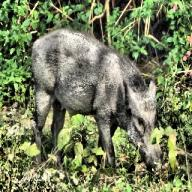boar: (30, 27, 165, 174)
